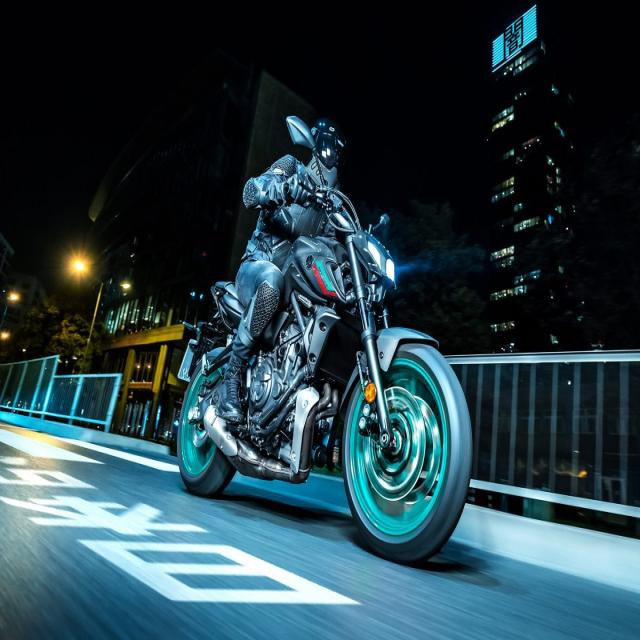Bike: (175, 115, 473, 566)
